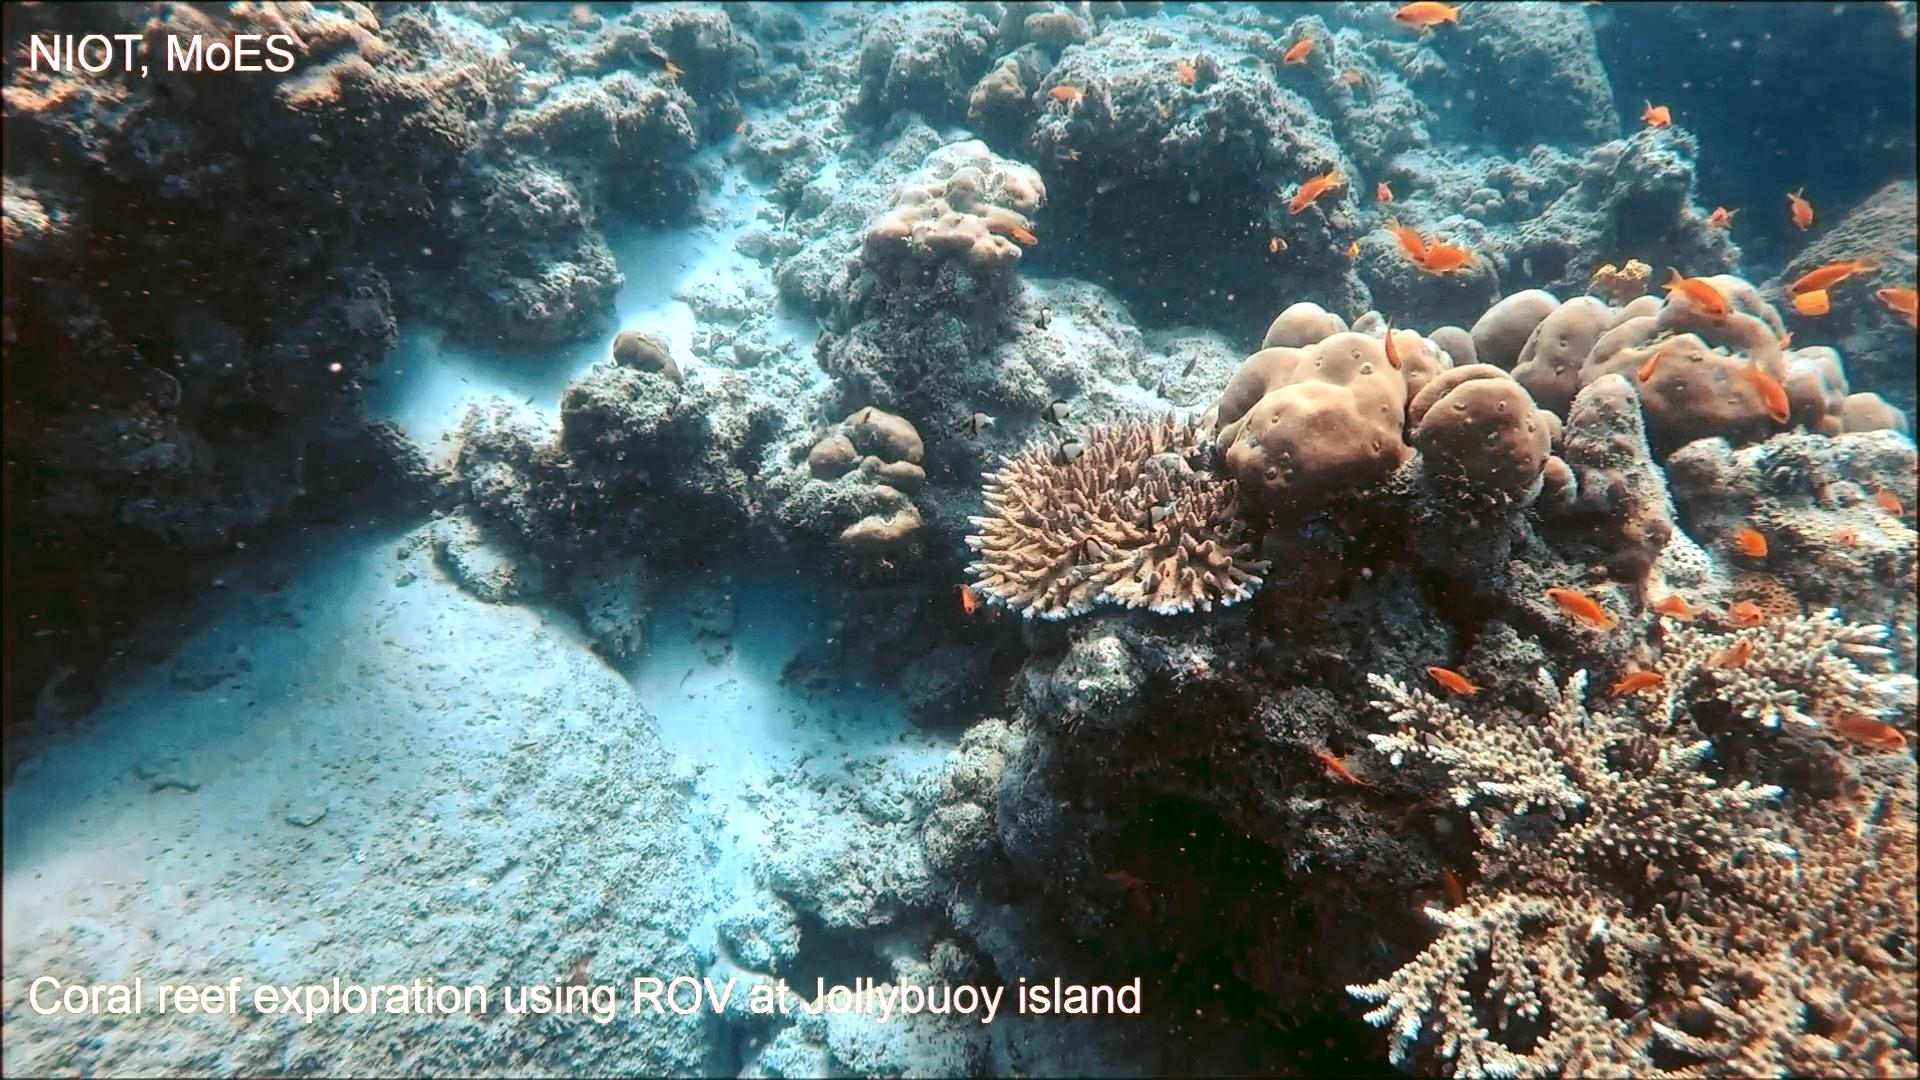Porites-Porites pukoensis: (1458, 253, 1913, 439), (1216, 294, 1555, 521)
